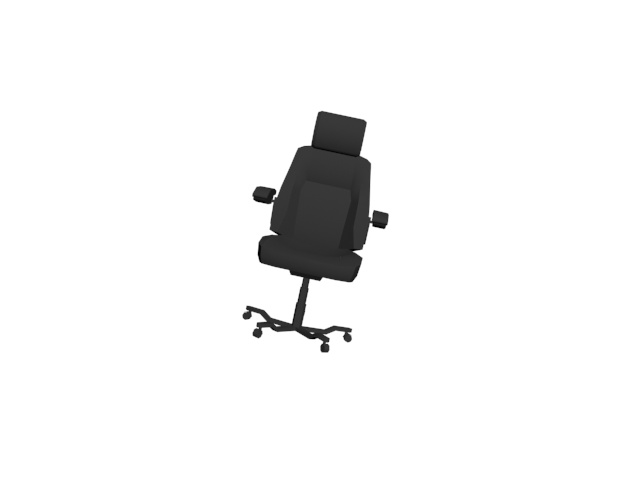desk_chair: (241, 105, 392, 360)
